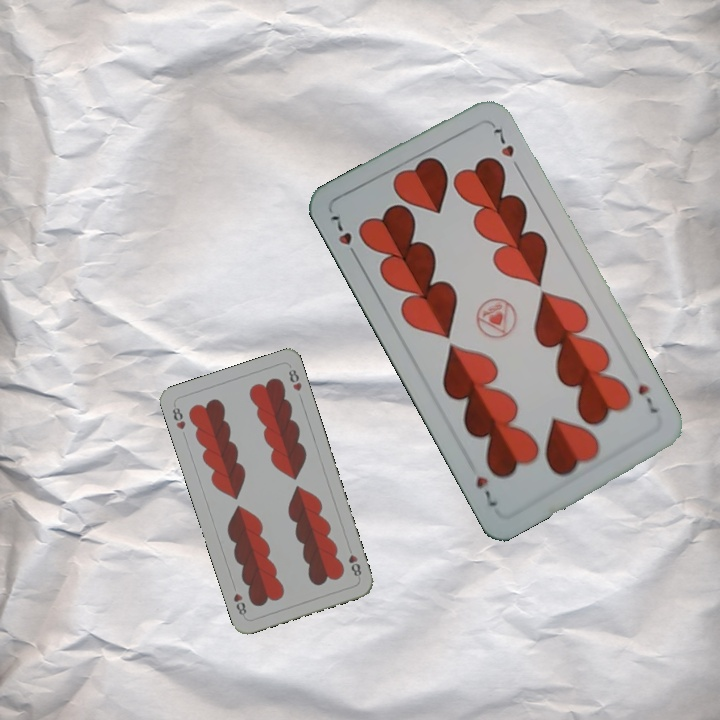H7: (325, 209, 362, 263), (633, 380, 661, 417)
H8: (344, 542, 364, 581), (168, 401, 188, 432)
